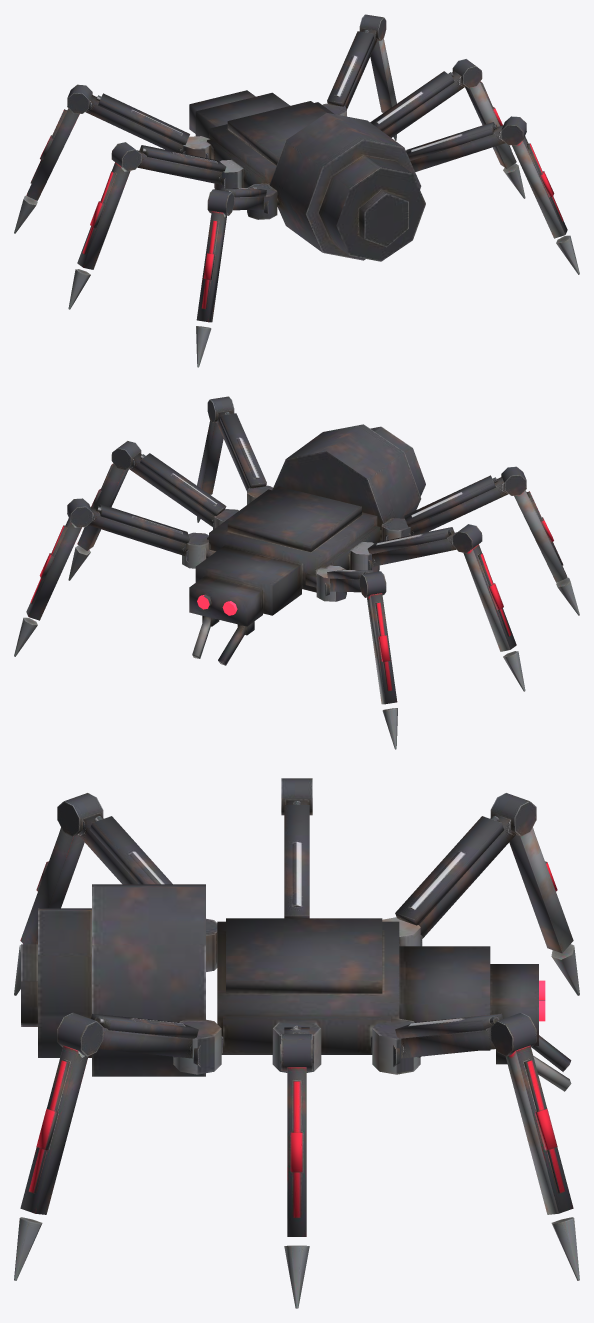
The model's file is aranha_montada.glb.
3 views of the same model, one above another, from view 1: azimuth 30°, elevation 25°; view 2: azimuth 150°, elevation 25°; view 3: azimuth 270°, elevation 25° (orthographic). The views are drawn at different scales.
Visible parts, largest first — view 1: aranha_montada_corpo0, aranha_montada_femur1, aranha_montada_femur2, aranha_montada_femur4, aranha_montada_femur3, aranha_montada_tibia3, aranha_montada_femur0, aranha_montada_tibia4, aranha_montada_tibia5, aranha_montada_tibia1, aranha_montada_tibia2, aranha_montada_femur5 (+1 smaller); view 2: aranha_montada_corpo0, aranha_montada_femur5, aranha_montada_femur2, aranha_montada_femur0, aranha_montada_femur3, aranha_montada_tibia3, aranha_montada_femur4, aranha_montada_tibia0, aranha_montada_tibia1, aranha_montada_tibia5, aranha_montada_tibia2, aranha_montada_femur1 (+1 smaller); view 3: aranha_montada_corpo0, aranha_montada_femur1, aranha_montada_tibia0, aranha_montada_tibia4, aranha_montada_femur0, aranha_montada_femur4, aranha_montada_femur5, aranha_montada_tibia2, aranha_montada_tibia1, aranha_montada_femur3, aranha_montada_tibia5, aranha_montada_femur2.
Boxes of the visible parts, x1,y1,x2,y2 form: aranha_montada_corpo0: [183, 90, 425, 261]; aranha_montada_femur1: [67, 84, 208, 158]; aranha_montada_femur2: [370, 59, 482, 137]; aranha_montada_femur4: [406, 116, 526, 171]; aranha_montada_femur3: [111, 142, 226, 188]; aranha_montada_tibia3: [68, 162, 130, 309]; aranha_montada_femur0: [327, 14, 386, 109]; aranha_montada_tibia4: [512, 136, 579, 274]; aranha_montada_tibia5: [196, 211, 226, 367]; aranha_montada_tibia1: [14, 108, 79, 233]; aranha_montada_tibia2: [465, 81, 525, 198]; aranha_montada_femur5: [207, 187, 268, 215]; aranha_montada_corpo0: [182, 424, 425, 665]; aranha_montada_femur5: [385, 466, 526, 540]; aranha_montada_femur2: [111, 441, 226, 529]; aranha_montada_femur0: [67, 498, 209, 562]; aranha_montada_femur3: [367, 524, 482, 570]; aranha_montada_tibia3: [463, 544, 525, 691]; aranha_montada_femur4: [207, 396, 266, 491]; aranha_montada_tibia0: [14, 518, 81, 656]; aranha_montada_tibia1: [367, 593, 397, 749]; aranha_montada_tibia5: [514, 490, 579, 615]; aranha_montada_tibia2: [68, 463, 128, 580]; aranha_montada_femur1: [325, 569, 386, 597]; aranha_montada_corpo0: [21, 884, 571, 1091]; aranha_montada_femur1: [395, 793, 536, 946]; aranha_montada_tibia0: [505, 1045, 579, 1280]; aranha_montada_tibia4: [14, 1045, 88, 1280]; aranha_montada_femur0: [370, 1013, 536, 1066]; aranha_montada_femur4: [57, 1013, 223, 1066]; aranha_montada_femur5: [57, 793, 172, 884]; aranha_montada_tibia2: [284, 1067, 309, 1308]; aranha_montada_tibia1: [509, 827, 579, 995]; aranha_montada_femur3: [281, 778, 312, 918]; aranha_montada_tibia5: [14, 827, 84, 995]; aranha_montada_femur2: [280, 1025, 313, 1070].
Bounding box in the file's own units: 2.85 × 0.9717 × 1.99.
Materials: 4 (3 with a texture image).
